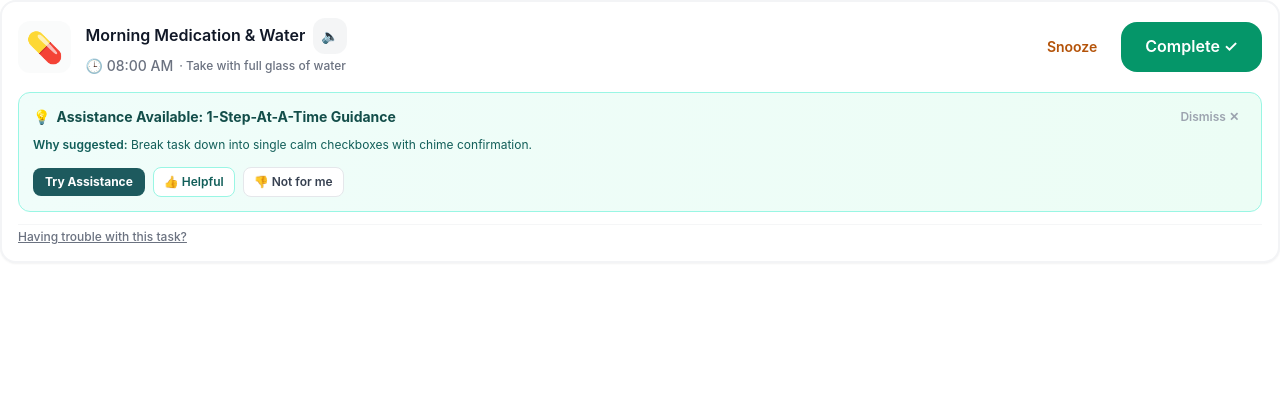
it: Priority 1: TaskCard Adaptive Assistance Integration › 5. "Try Assistance" applies the assistance option to the task
The width and height of the screenshot is (1280, 402).
Click the button "Try Assistance": point(89, 182) [33,168,145,196]
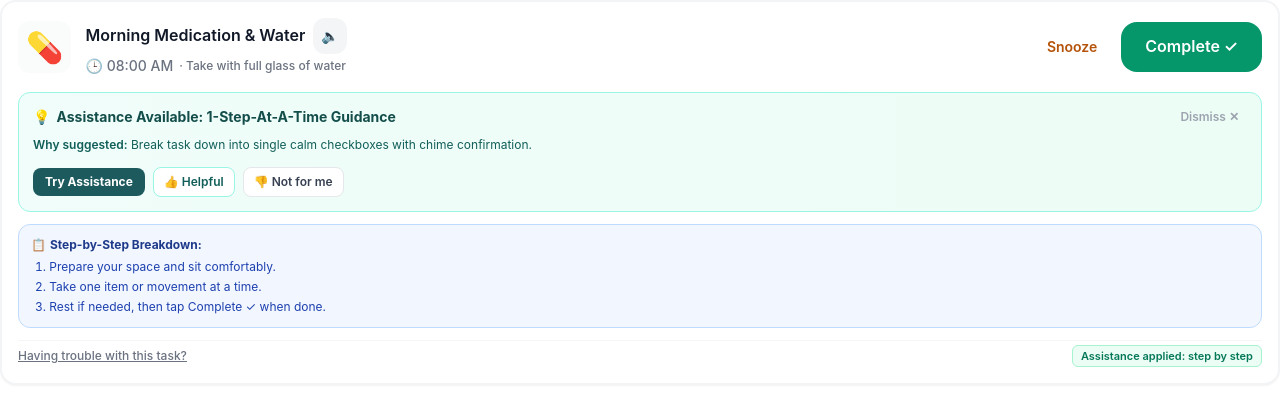
Expected: the text "📋 Step-by-Step Breakdown:" is shown, [31,236,202,252]
Expected: the text "Assistance applied: step by step" is shown, [1072,344,1262,366]
